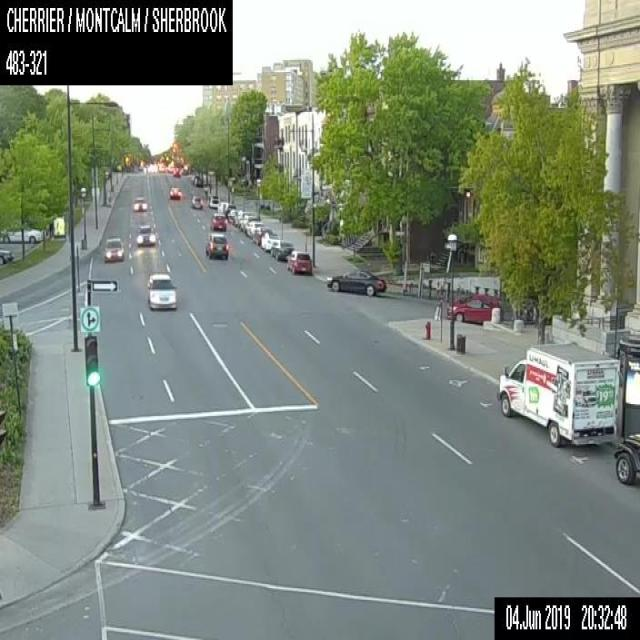vehicle: (498, 340, 616, 446), (326, 267, 386, 296), (446, 293, 501, 324), (613, 432, 639, 483), (146, 271, 177, 309), (0, 225, 44, 242), (285, 248, 312, 274), (205, 232, 229, 257), (102, 236, 124, 261), (270, 238, 294, 260), (136, 223, 154, 244), (260, 232, 279, 250), (238, 214, 256, 232), (210, 210, 226, 230), (252, 226, 270, 243), (246, 218, 262, 237), (217, 200, 235, 216), (233, 209, 249, 224), (0, 246, 14, 262), (132, 197, 146, 211), (223, 202, 236, 217), (169, 184, 181, 199), (190, 195, 203, 208), (227, 208, 239, 222), (208, 194, 219, 207), (172, 166, 180, 176)
